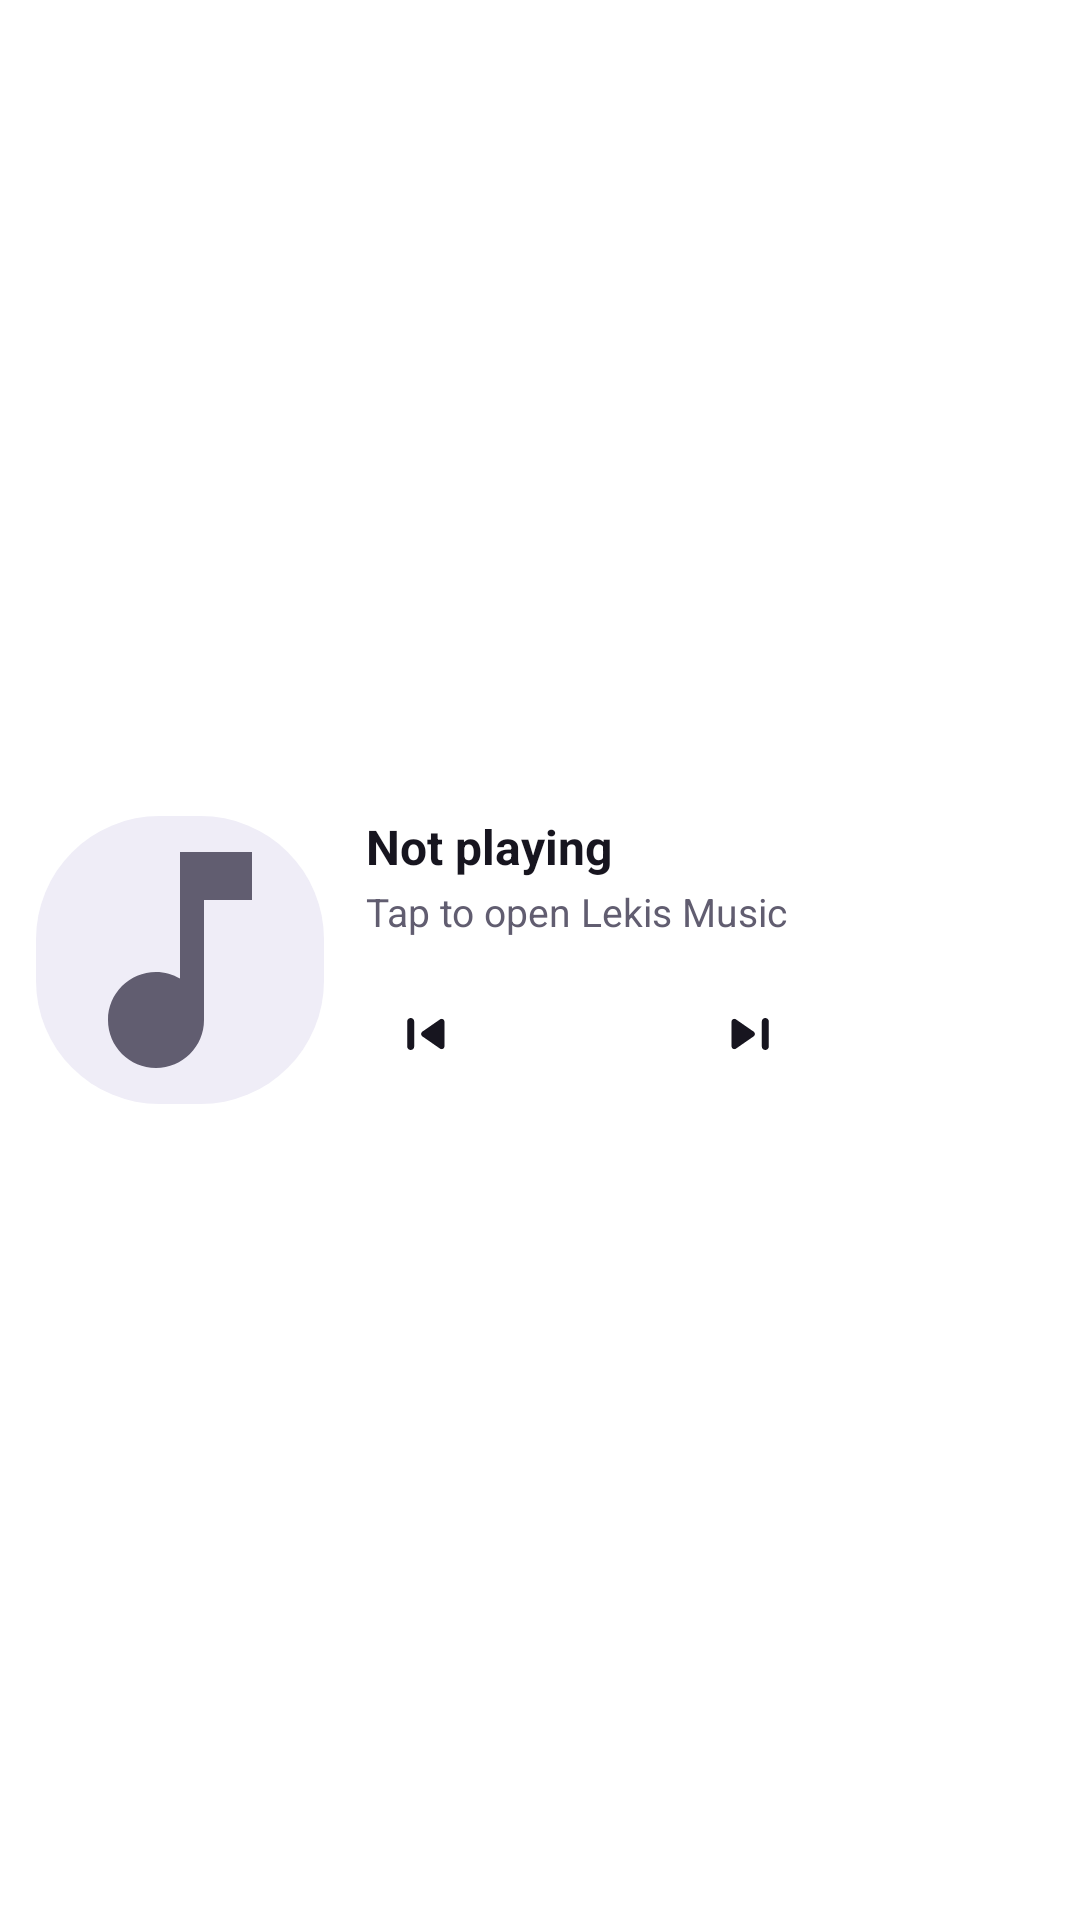

Where icons sit on this 1080px×1920px app screen, as (x1, y1, x2, y2):
Next: (731, 1018, 769, 1050)
Previous: (407, 1018, 445, 1050)
